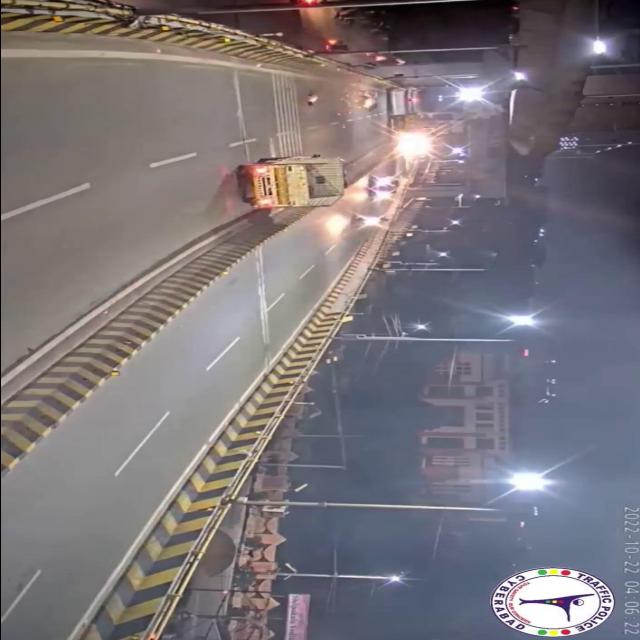accident: (348, 80, 382, 116)
